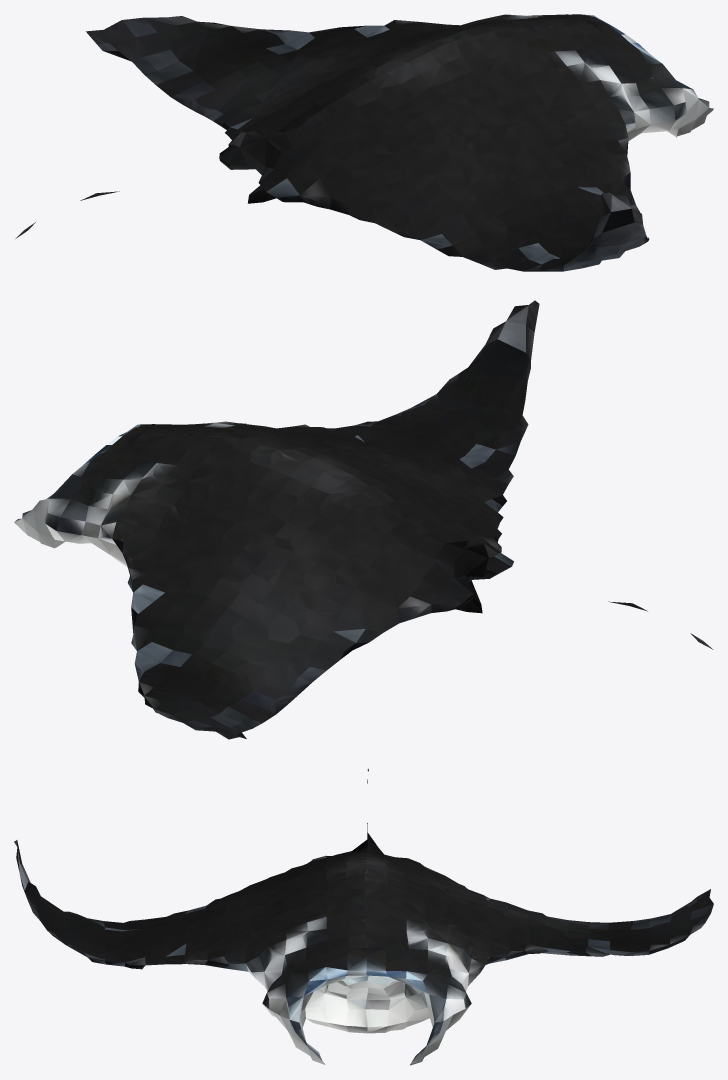
The model's file is manta_ray.glb.
3 views of the same model, one above another, from view 1: azimuth 30°, elevation 25°; view 2: azimuth 150°, elevation 25°; view 3: azimuth 270°, elevation 25° (orthographic). The views are drawn at different scales.
Size of the model in its own units: 0.9412 by 0.2161 by 0.9948.
1 material, 1 textured.
